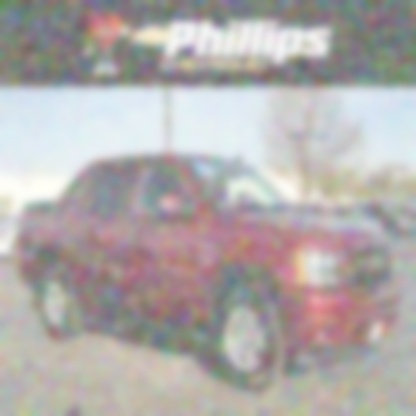Vehicle: (20, 159, 408, 396)
